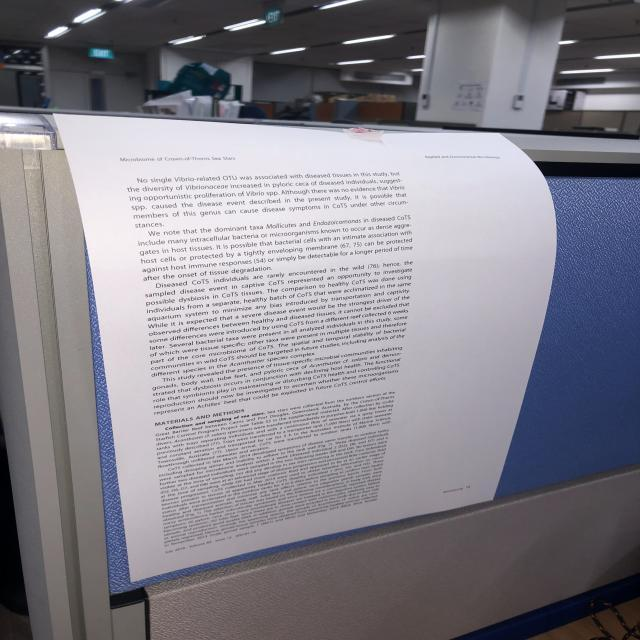document: (55, 115, 555, 581)
